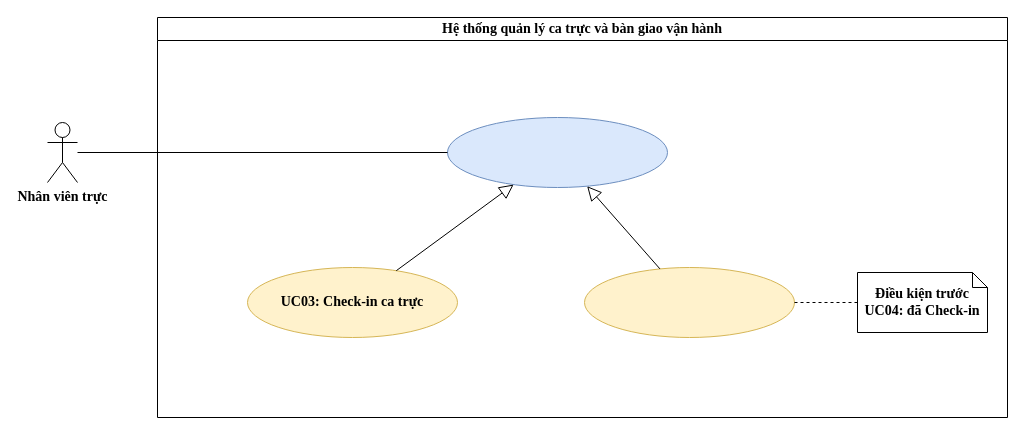
Some shapes in this 1025 by 435 pixel diagram are drawn without their labels. The centre of each missing label's shape, as x and y in pixels:
UC04: Check-out ca trực: point (689, 302)
Điểm danh chuyên cần: point (557, 152)
